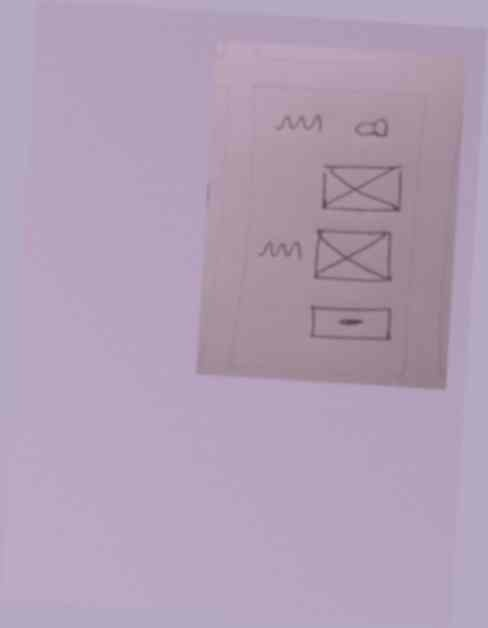button: (304, 301, 399, 351)
image: (309, 223, 399, 287), (316, 158, 407, 221)
switch: (348, 113, 393, 144)
text: (254, 237, 307, 269), (270, 107, 328, 136)
